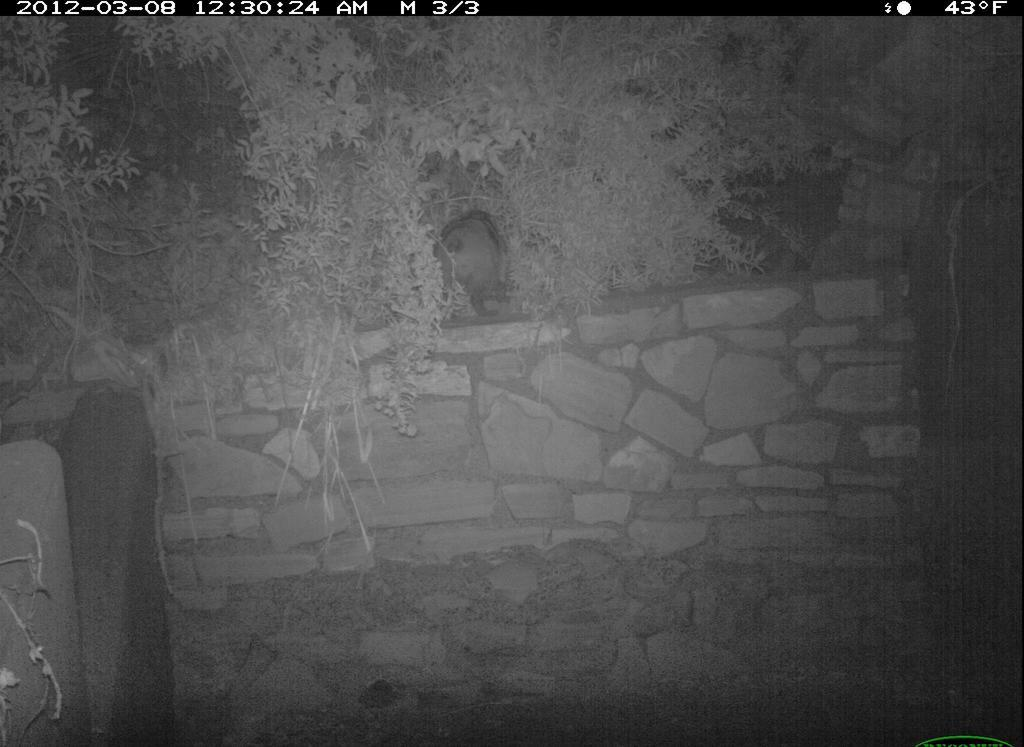raccoon: (427, 185, 525, 336)
